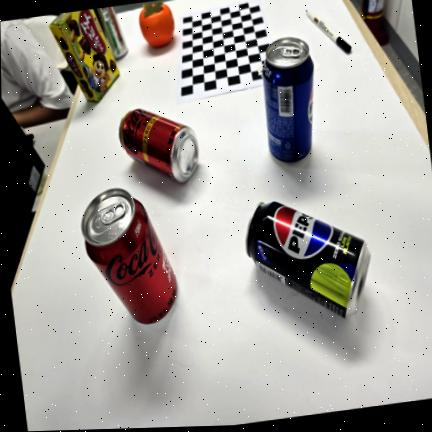can_coke_decaf: (119, 108, 199, 182)
can_coke_zero: (81, 188, 177, 324)
can_pepsi: (263, 37, 313, 162)
can_pepsi_zero: (246, 202, 371, 318)
